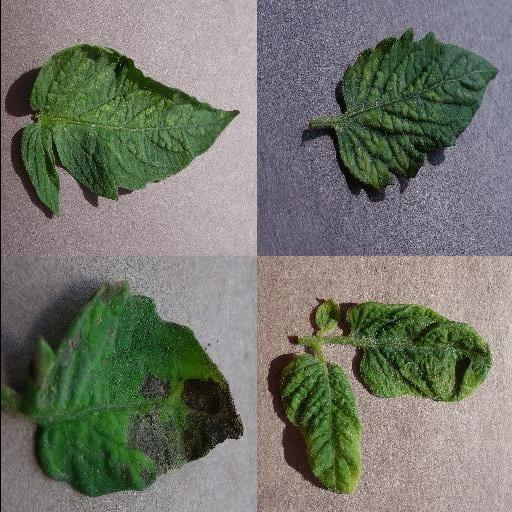Early Blight: (25, 282, 243, 498)
Mosaic Virus: (334, 28, 500, 194)
Spider Mites: (18, 43, 242, 217)
Yellow Leaf Curl Virus: (343, 301, 493, 403), (278, 354, 362, 494), (313, 295, 339, 333)
